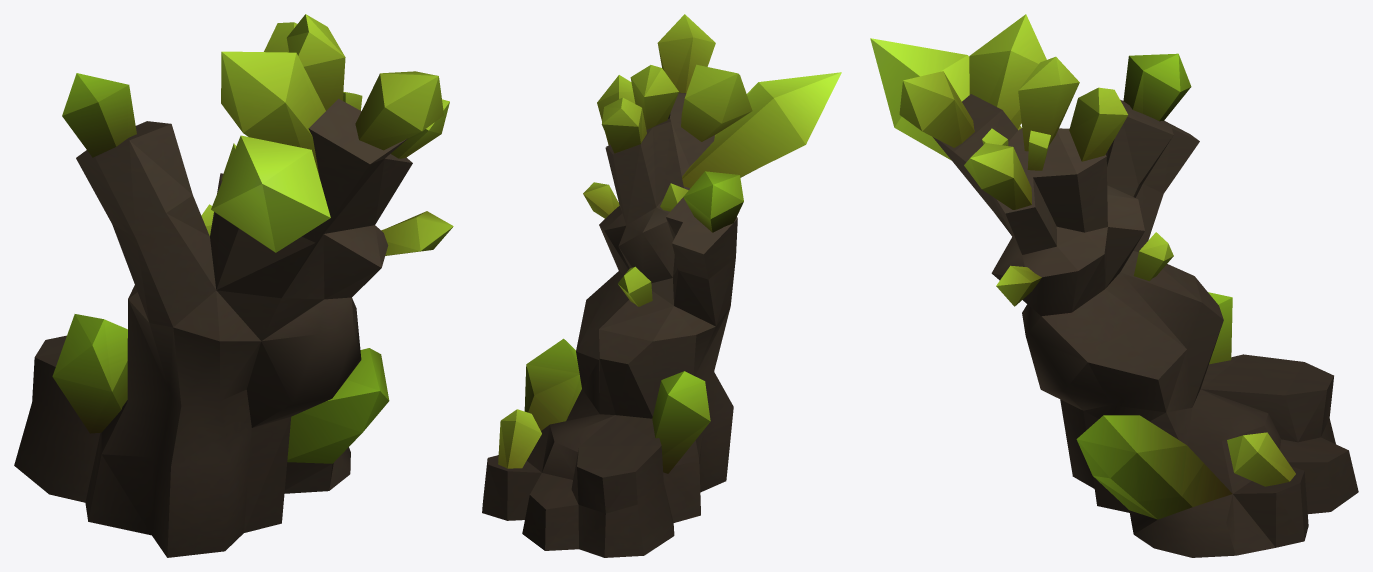
Rendered from ZLP_Crystalk_C_8.FBX.
The picture shows the model from 3 angles, left to right: view 1: azimuth 30°, elevation 25°; view 2: azimuth 150°, elevation 25°; view 3: azimuth 270°, elevation 25°; orthographic projection. The views are drawn at different scales.
Parts seen in each view (by area): view 1: ZLP_Crystalk_C_8; view 2: ZLP_Crystalk_C_8; view 3: ZLP_Crystalk_C_8.
Boxes of the visible parts, x1,y1,x2,y2 form: ZLP_Crystalk_C_8: (14, 14, 453, 557); ZLP_Crystalk_C_8: (482, 14, 841, 557); ZLP_Crystalk_C_8: (870, 14, 1358, 557).
Size of the model in its own units: 133 by 216 by 213.
